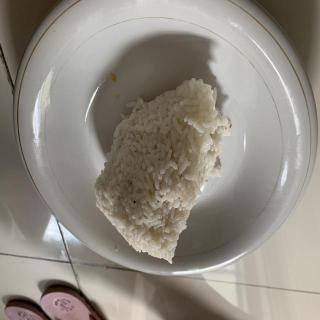Nasi: (95, 77, 223, 265)
